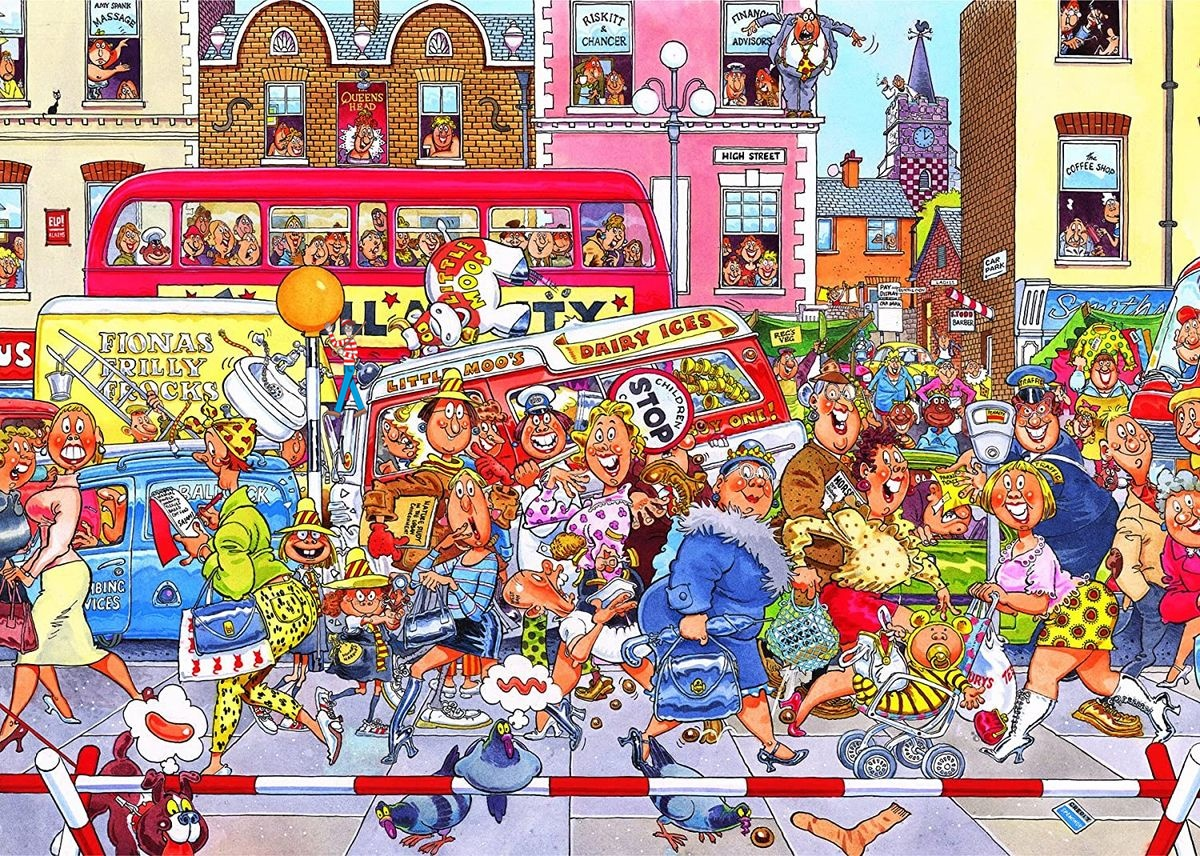waldo: (324, 318, 367, 418)
